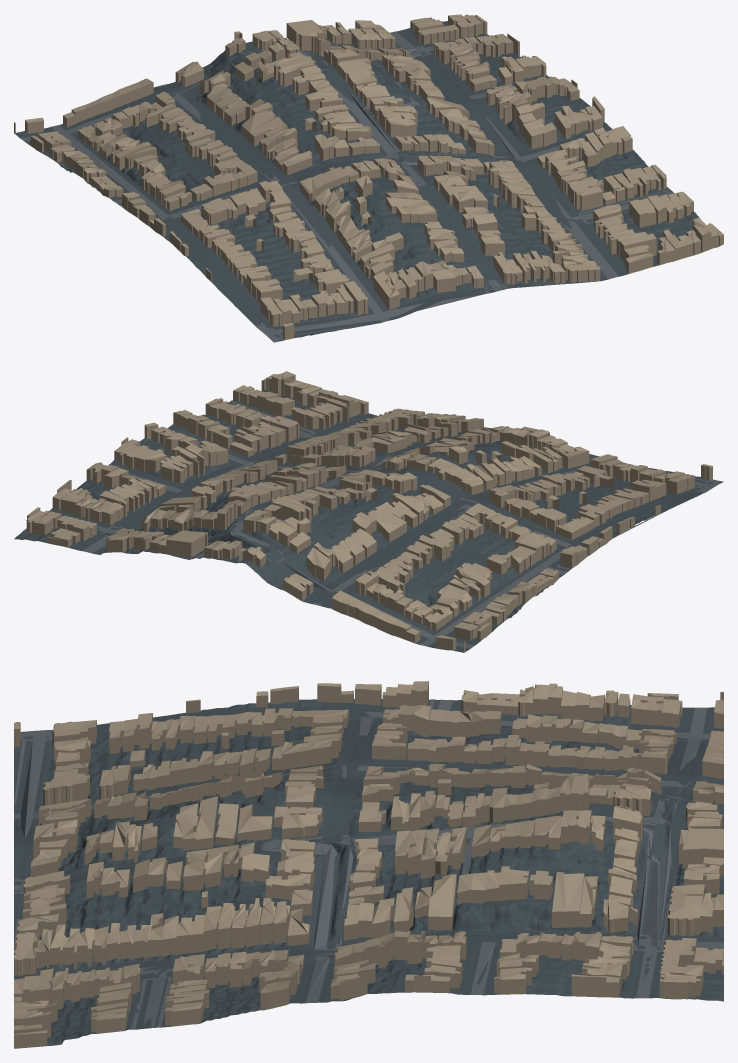
File: epsg26910-1431-10882.lod0.glb
The picture shows the model from 3 angles, top to bottom: view 1: azimuth 30°, elevation 25°; view 2: azimuth 150°, elevation 25°; view 3: azimuth 270°, elevation 25°; orthographic projection. The views are drawn at different scales.
Parts seen in each view (by area): view 1: epsg26910-1431-10882-lod0; view 2: epsg26910-1431-10882-lod0; view 3: epsg26910-1431-10882-lod0.
Boxes of the visible parts, left/top/right/bottom form: epsg26910-1431-10882-lod0: left=14, top=14, right=723, bottom=342; epsg26910-1431-10882-lod0: left=14, top=371, right=723, bottom=652; epsg26910-1431-10882-lod0: left=14, top=681, right=723, bottom=1048.
Bounding box in the file's own units: 384 × 77.51 × 384.
